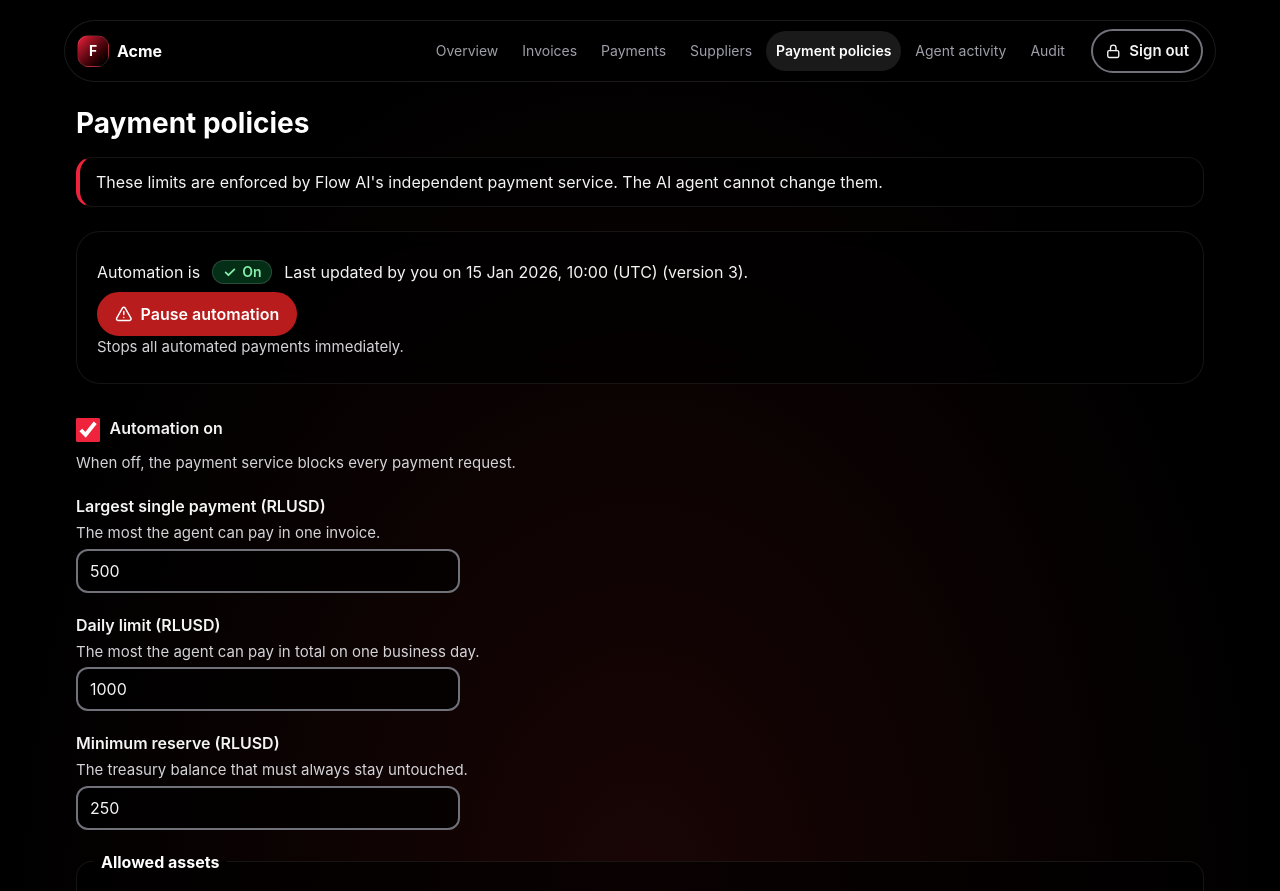
Test case: keyboard-only journeys › policy: a safe change (lowering a cap) saves without a review step
This screenshot has width=1280, height=891.
Replace the text in the field labelled "Largest single payment (RLUSD)" with "100" at (268, 570), box [76, 548, 460, 592]
(page scrolled)
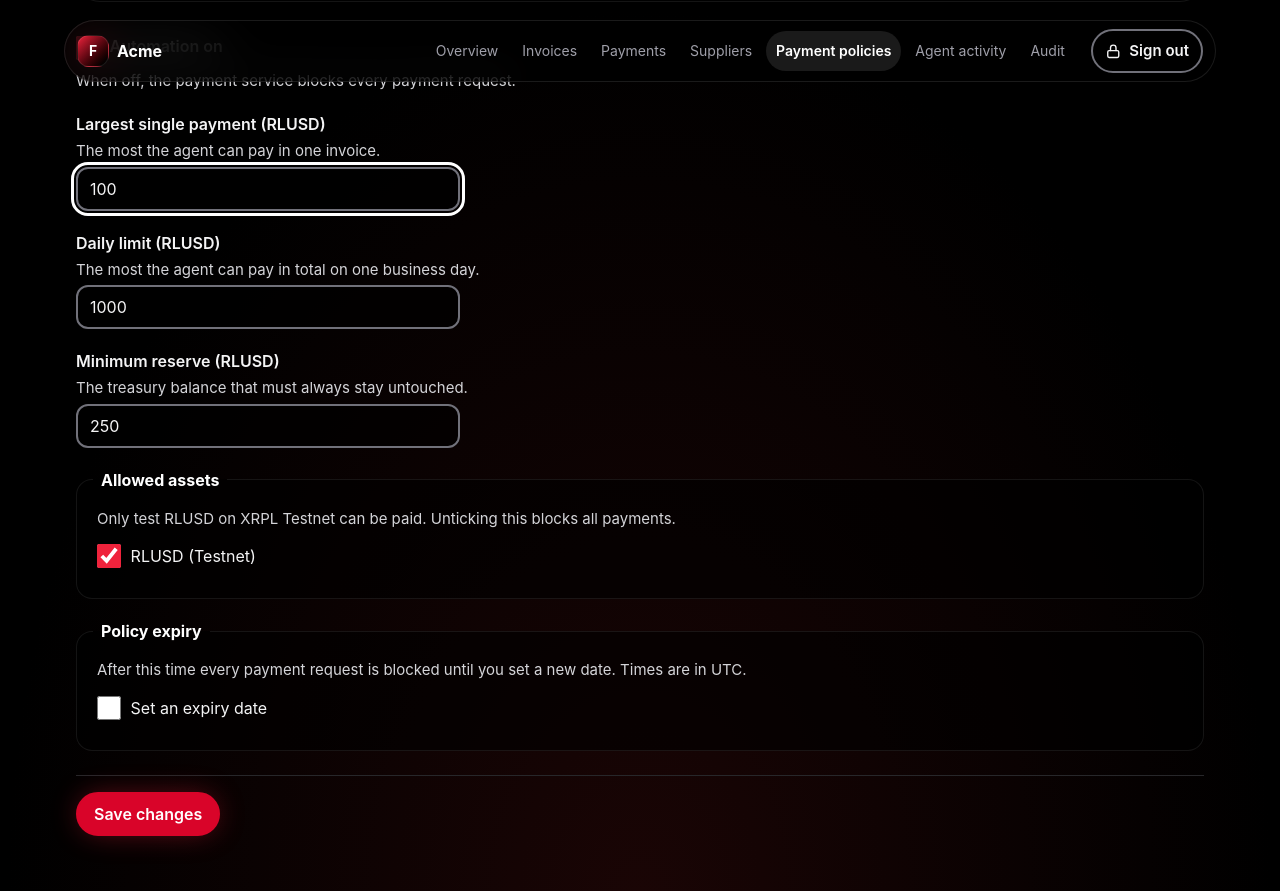
Click the button "Save changes" at (148, 814), box [76, 792, 220, 836]
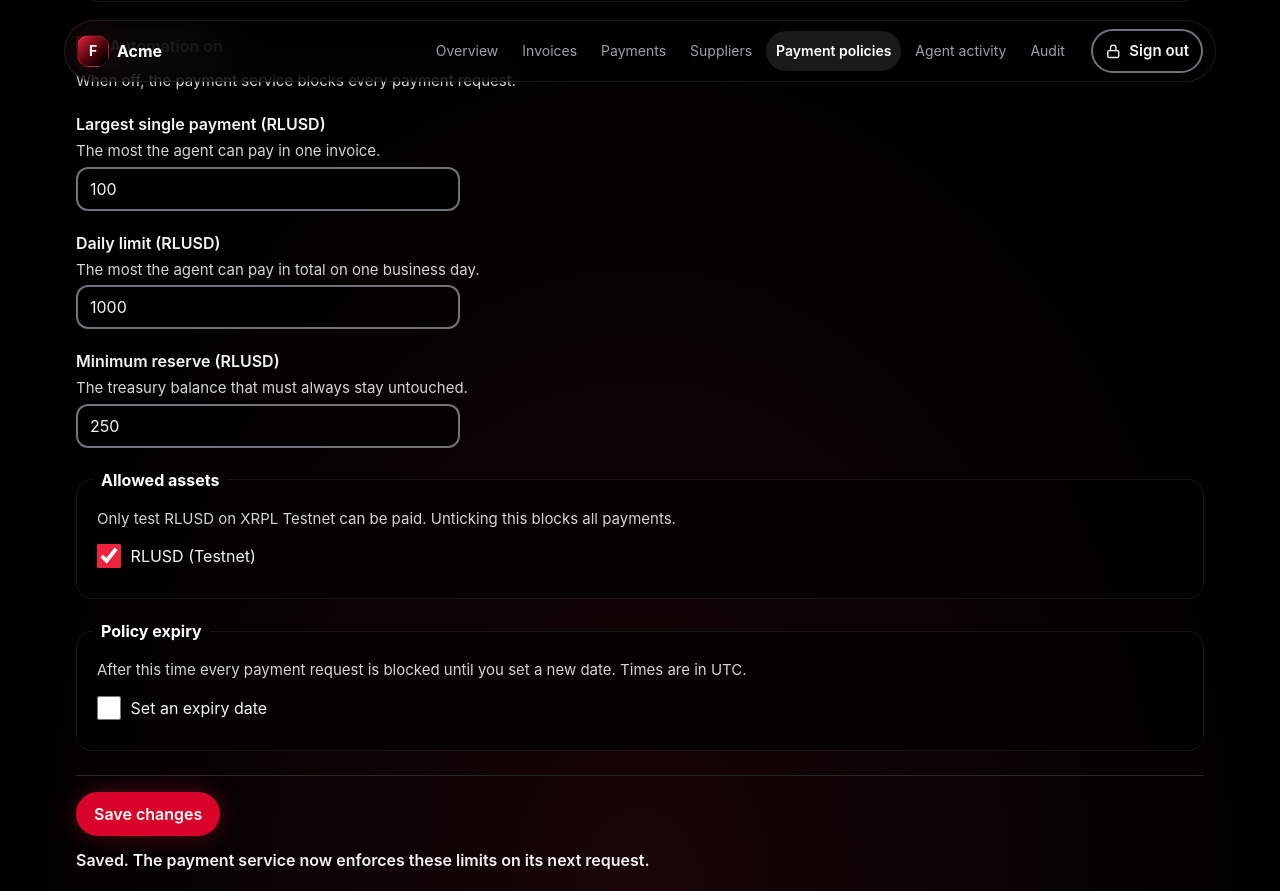
Expected: the message shows "Saved.", [76, 850, 650, 870]
